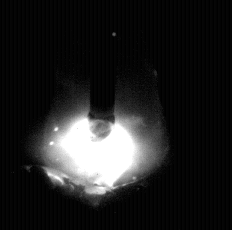arame: (89, 0, 115, 138)
poca: (38, 0, 169, 230)
